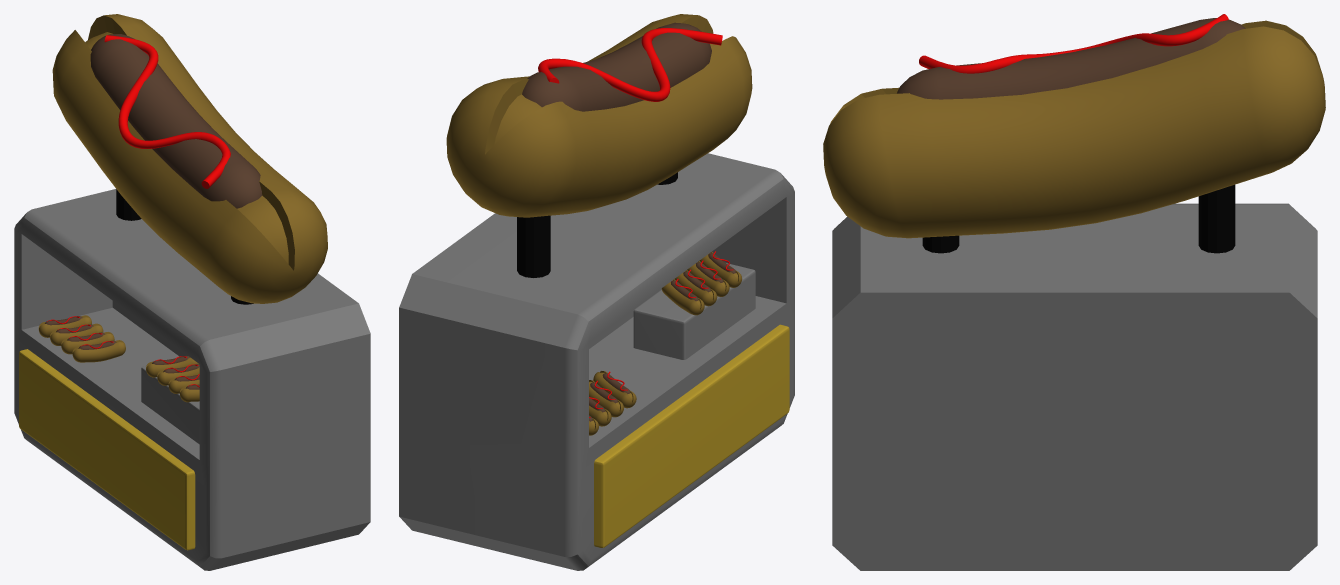
File: hotdog.fbx
3 renders of one model, left to right at view 1: azimuth 30°, elevation 25°; view 2: azimuth 150°, elevation 25°; view 3: azimuth 270°, elevation 25°, orthographic. The views are drawn at different scales.
Visible parts, largest first — view 1: stand_hotdog; view 2: stand_hotdog; view 3: stand_hotdog.
Boxes of the visible parts, x1=… form: stand_hotdog: x1=14, y1=14, x2=370, y2=570; stand_hotdog: x1=399, y1=14, x2=794, y2=570; stand_hotdog: x1=823, y1=14, x2=1325, y2=570.
Bounding box in the file's own units: 2.24 × 5.27 × 4.83.
